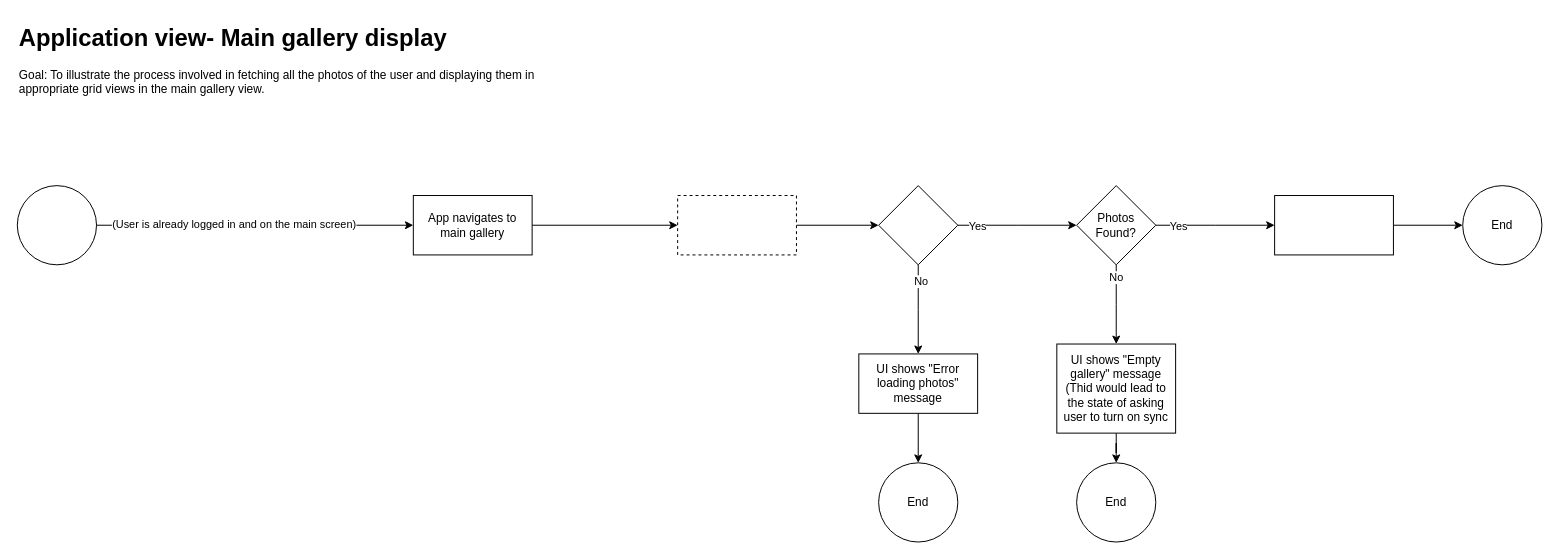
The diagram is 1559 pixels wide and 559 high, and some of its shapes have lost their labels. Each missing label, with the centre of its shape:
"Begin Background Process: Fetch photos": pixel 736 225
Fetch successful?: pixel 918 225
Start: pixel 56 225
UI renders grid of photos: pixel 1333 225
